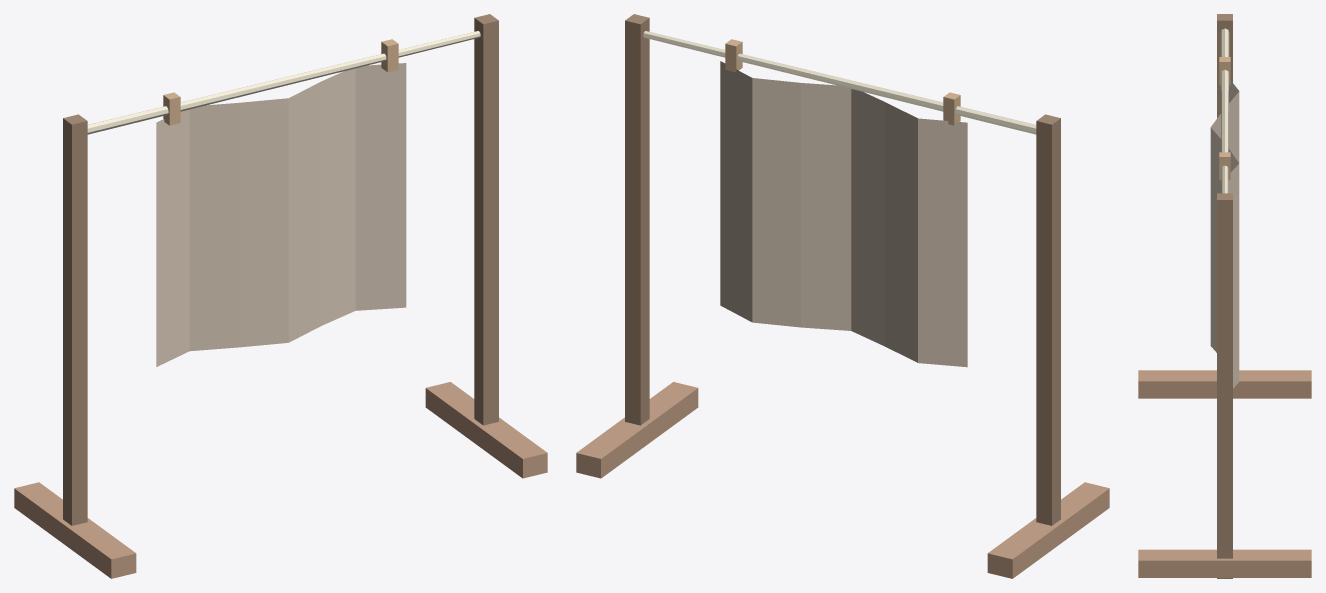
Rendered from laundry_rack.fbx.
3 views of the same model, side by side, from view 1: azimuth 30°, elevation 25°; view 2: azimuth 150°, elevation 25°; view 3: azimuth 270°, elevation 25° (orthographic). The views are drawn at different scales.
Visible parts, largest first — view 1: Cloth, laundry_rack_geometry, Clothesline; view 2: Cloth, laundry_rack_geometry, Clothesline; view 3: laundry_rack_geometry, Cloth, Clothesline.
Part boxes in pixels (left/top/right/bottom): Cloth: left=156, top=63, right=406, bottom=366; laundry_rack_geometry: left=14, top=14, right=547, bottom=578; Clothesline: left=87, top=31, right=480, bottom=134; Cloth: left=720, top=61, right=967, bottom=367; laundry_rack_geometry: left=576, top=14, right=1109, bottom=578; Clothesline: left=643, top=31, right=1036, bottom=134; laundry_rack_geometry: left=1138, top=14, right=1311, bottom=578; Cloth: left=1210, top=80, right=1239, bottom=388; Clothesline: left=1220, top=28, right=1229, bottom=193.
Size of the model in its own units: 1.4 by 1.3 by 0.54.
